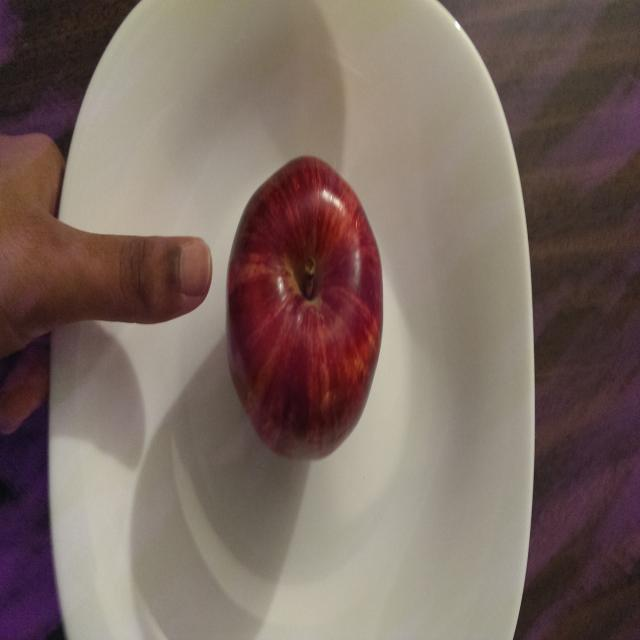apple: (220, 143, 387, 473)
